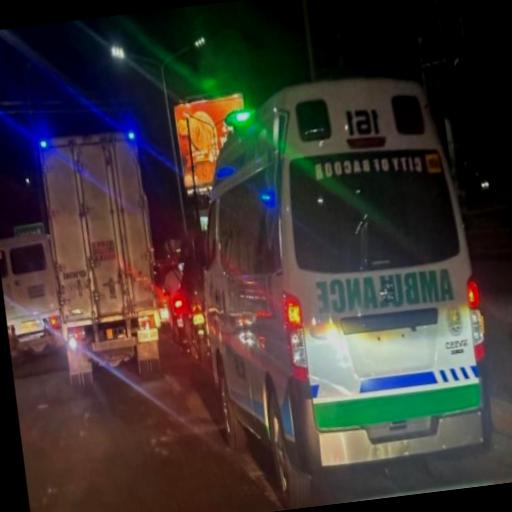Police car: (183, 64, 503, 510)
